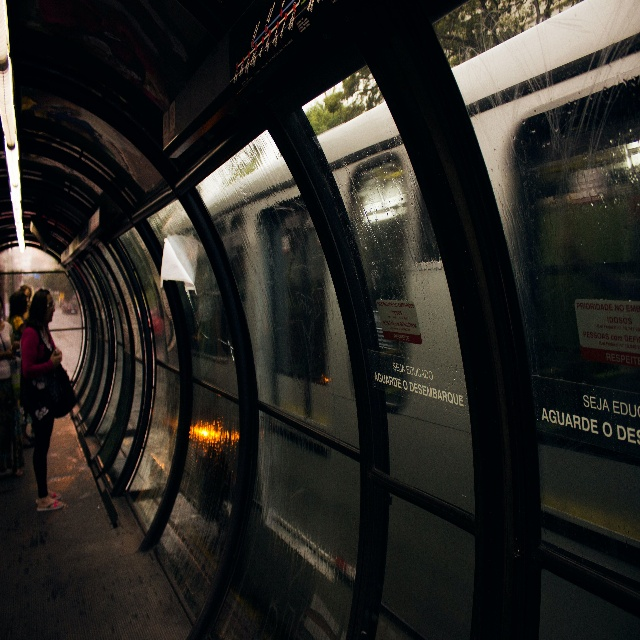Sin_guantes: (50, 349, 62, 366), (55, 349, 62, 361)
